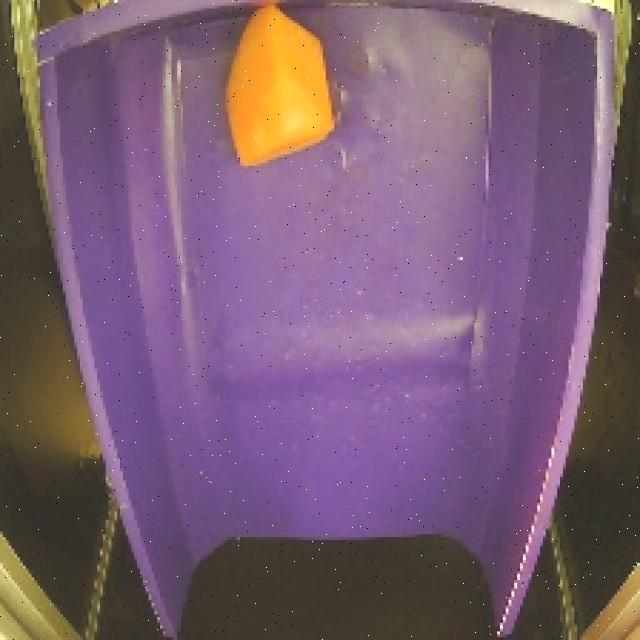carrots: (217, 0, 340, 177)
